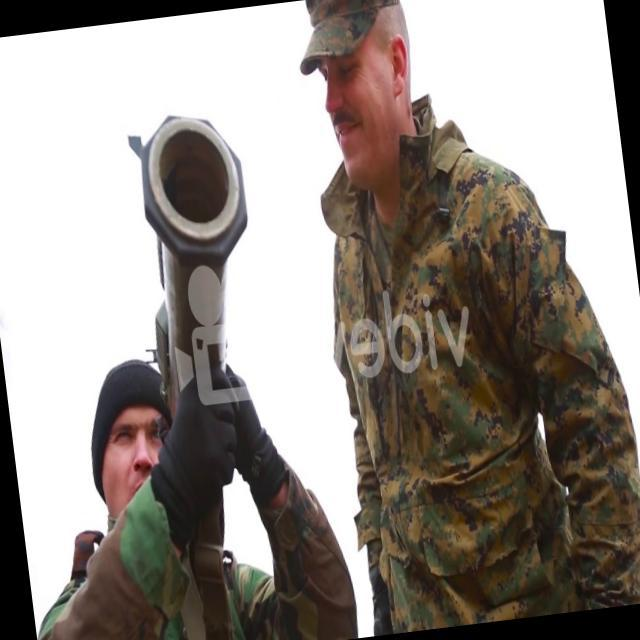rocket: (125, 107, 268, 410)
